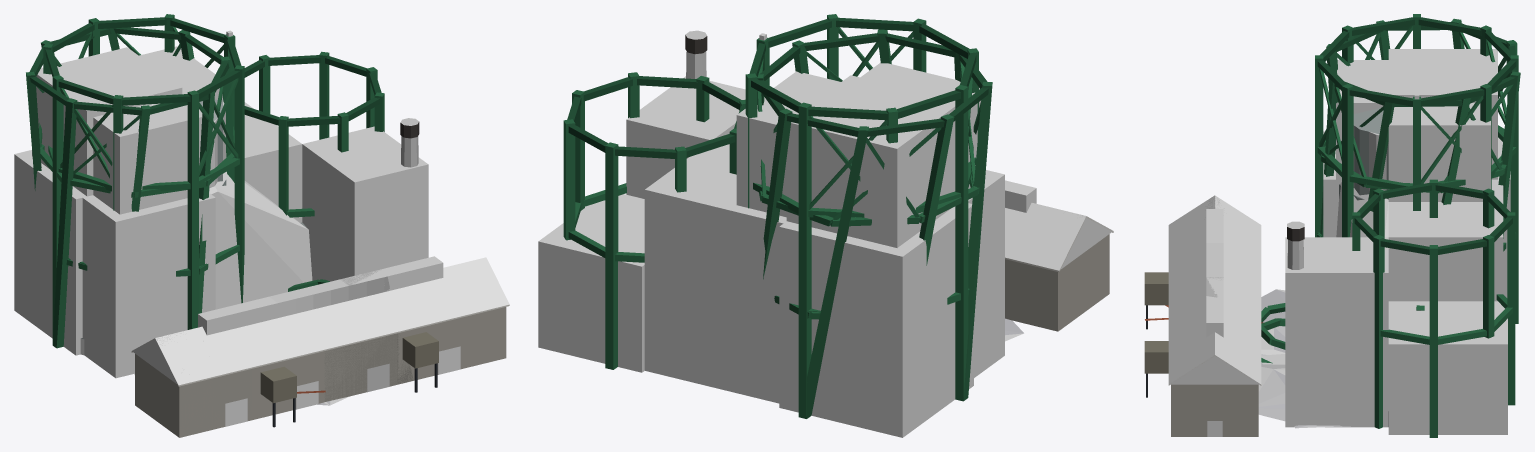
The model's file is lm_gasworks.glb.
3 views of the same model, side by side, from view 1: azimuth 30°, elevation 25°; view 2: azimuth 150°, elevation 25°; view 3: azimuth 270°, elevation 25° (orthographic). The views are drawn at different scales.
Parts seen in each view (by area): view 1: damaged, intact, chunk_03, chunk_05, chunk_00, chunk_06, chunk_04, chunk_01, chunk_09, chunk_11, chunk_02, chunk_07 (+1 smaller); view 2: damaged, chunk_06, chunk_07, intact, chunk_11, chunk_08, chunk_00, chunk_05, chunk_03, chunk_12, chunk_09; view 3: damaged, intact, chunk_05, chunk_08, chunk_02, chunk_07, chunk_12, chunk_11, chunk_00, chunk_01, rubble, chunk_09 (+4 smaller).
Boxes of the visible parts, bbox=[...] form: damaged: bbox=[26, 27, 419, 437]; intact: bbox=[43, 14, 509, 392]; chunk_03: bbox=[82, 193, 215, 378]; chunk_05: bbox=[302, 126, 428, 281]; chunk_00: bbox=[132, 319, 293, 437]; chunk_06: bbox=[14, 150, 86, 355]; chunk_04: bbox=[209, 171, 312, 309]; chunk_01: bbox=[275, 289, 413, 409]; chunk_09: bbox=[93, 103, 209, 214]; chunk_11: bbox=[32, 47, 182, 196]; chunk_02: bbox=[395, 257, 509, 358]; chunk_07: bbox=[244, 102, 302, 222]; damaged: bbox=[563, 29, 1113, 418]; chunk_06: bbox=[779, 203, 973, 437]; chunk_07: bbox=[644, 144, 786, 403]; intact: bbox=[745, 14, 1056, 418]; chunk_11: bbox=[786, 75, 955, 247]; chunk_08: bbox=[538, 194, 644, 372]; chunk_00: bbox=[1005, 203, 1112, 331]; chunk_05: bbox=[626, 76, 745, 198]; chunk_03: bbox=[968, 170, 1004, 377]; chunk_12: bbox=[736, 71, 840, 217]; chunk_09: bbox=[860, 63, 980, 188]; damaged: bbox=[1144, 18, 1520, 437]; intact: bbox=[1144, 14, 1518, 436]; chunk_05: bbox=[1285, 237, 1388, 427]; chunk_08: bbox=[1388, 301, 1507, 434]; chunk_02: bbox=[1168, 314, 1261, 436]; chunk_07: bbox=[1388, 179, 1503, 301]; chunk_12: bbox=[1388, 103, 1490, 201]; chunk_11: bbox=[1388, 49, 1497, 179]; chunk_00: bbox=[1168, 195, 1261, 280]; chunk_01: bbox=[1168, 257, 1261, 337]; rubble: bbox=[1145, 289, 1424, 428]; chunk_09: bbox=[1336, 60, 1388, 179].
Size of the model in its own units: 57.16 by 44.8 by 56.13.
